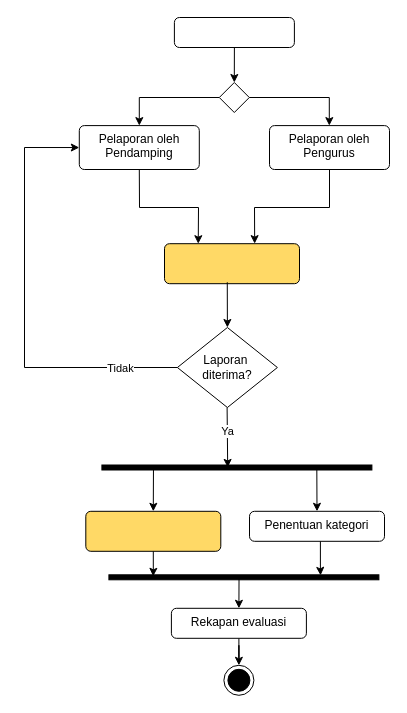
This 407x713 diagram has some shape labels left out. The shapes that lost their labels are listed below. From the top down, each one's box as (x1, y1, x2, y2) in pixels, then its label:
(173, 16, 294, 48): Evaluasi
(164, 243, 300, 284): Pengiriman pelaporan melalui Sistem
(85, 510, 221, 551): Informasi hasil monitoring
